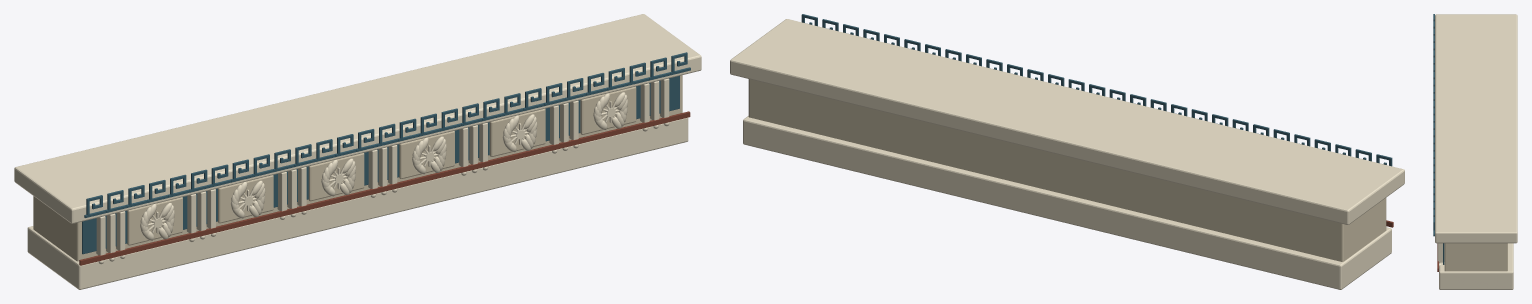
File: entablature.glb
The picture shows the model from 3 angles, left to right: view 1: azimuth 30°, elevation 25°; view 2: azimuth 150°, elevation 25°; view 3: azimuth 270°, elevation 25°; orthographic projection. The views are drawn at different scales.
Visible parts, largest first — view 1: Architrave.001, Blue frieze ground.001, Frieze bed.001, Red taenia.001; view 2: Architrave.001, Frieze bed.001, Blue frieze ground.001; view 3: Architrave.001, Frieze bed.001, Blue frieze ground.001.
Part boxes in pixels (x1,y1,x2,y2): Architrave.001: [14, 14, 701, 289]; Blue frieze ground.001: [82, 52, 690, 254]; Frieze bed.001: [33, 75, 682, 261]; Red taenia.001: [79, 111, 690, 265]; Architrave.001: [730, 19, 1404, 289]; Frieze bed.001: [748, 79, 1386, 261]; Blue frieze ground.001: [801, 14, 1392, 166]; Architrave.001: [1435, 14, 1517, 289]; Frieze bed.001: [1444, 243, 1507, 271]; Blue frieze ground.001: [1433, 14, 1444, 264].
Size of the model in its own units: 7.65 by 1.08 by 1.24.
